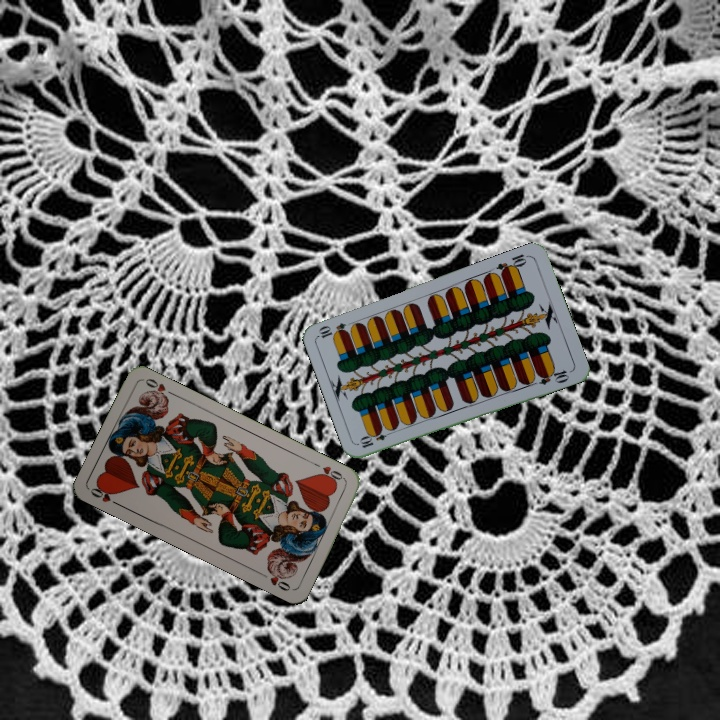E10: (492, 250, 532, 278), (356, 426, 396, 451)
HO: (86, 481, 124, 509), (310, 459, 348, 486)
